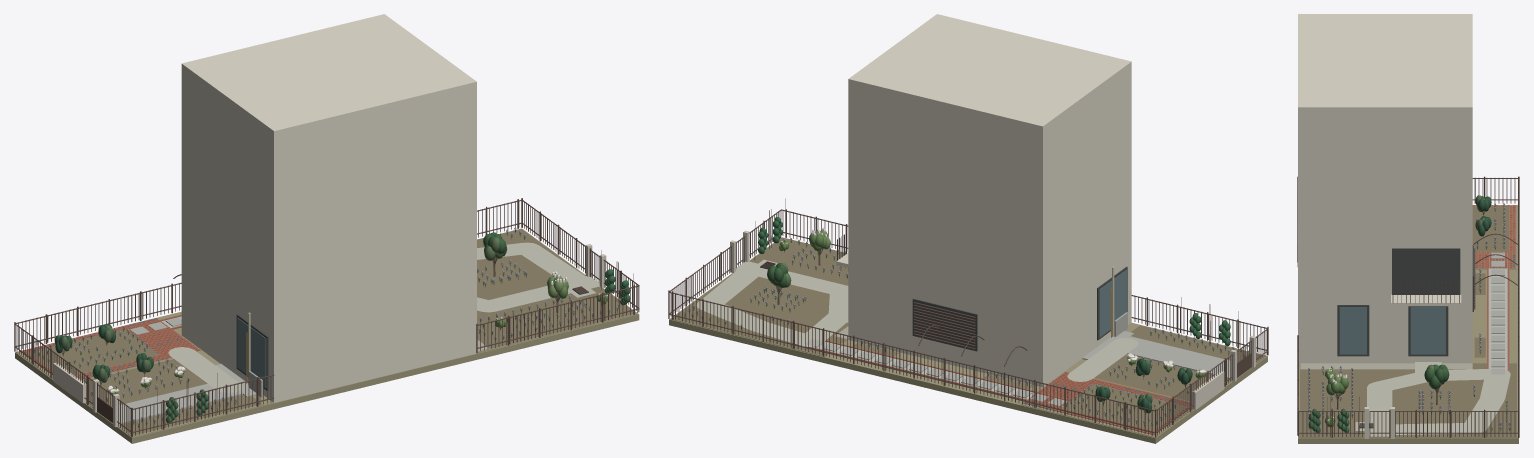
The model's file is design-C-year1.glb.
3 views of the same model, side by side, from view 1: azimuth 30°, elevation 25°; view 2: azimuth 150°, elevation 25°; view 3: azimuth 270°, elevation 25° (orthographic). The views are drawn at different scales.
Visible parts, largest first — view 1: Unsurveyed_Building_Mass, Boundary_Fences_Approximate_metal, R0_Flat_Datum, Proposed_Planting_Beds_And_Mulch, S-west-border, N-low-border, S-loop_New_Warm_Grey_Paving, Footprint_Proxy_Unsurveyed, N-woodland, Red_Brick_Joints_Indicative_brick, Grey_Access_Route_Approximate, N-connection_New_Warm_Grey_Paving (+5 smaller); view 2: Unsurveyed_Building_Mass, Boundary_Fences_Approximate_metal, R0_Flat_Datum, S-loop_New_Warm_Grey_Paving, Proposed_Planting_Beds_And_Mulch, N-low-border, Footprint_Proxy_Unsurveyed, Red_Brick_Joints_Indicative_brick, N-woodland, S-west-border, Wall_Services_Visible_Proxies_dark, Wall_Services_Visible_Proxies_metal (+11 smaller); view 3: Unsurveyed_Building_Mass, S-loop_New_Warm_Grey_Paving, Proposed_Planting_Beds_And_Mulch, Visible_bare_Openings_dark, Boundary_Fences_Approximate_metal, Visible_bare_Openings_glass, R0_Flat_Datum, S-west-border, Zone_3_Steps_And_Gravel_slab, Footprint_Proxy_Unsurveyed, N-low-border, S-east-border (+17 smaller).
Boxes of the visible parts, <box> form: Unsurveyed_Building_Mass: <box>181,14,476,394</box>; Boundary_Fences_Approximate_metal: <box>14,198,639,437</box>; R0_Flat_Datum: <box>15,231,639,443</box>; Proposed_Planting_Beds_And_Mulch: <box>41,229,636,435</box>; S-west-border: <box>477,292,632,346</box>; N-low-border: <box>28,329,159,375</box>; S-loop_New_Warm_Grey_Paving: <box>477,242,594,312</box>; Footprint_Proxy_Unsurveyed: <box>181,327,476,402</box>; N-woodland: <box>85,360,196,403</box>; Red_Brick_Joints_Indicative_brick: <box>20,318,200,379</box>; Grey_Access_Route_Approximate: <box>112,383,242,423</box>; N-connection_New_Warm_Grey_Paving: <box>168,347,242,392</box>; Unsurveyed_Building_Mass: <box>848,14,1131,378</box>; Boundary_Fences_Approximate_metal: <box>668,209,1268,437</box>; R0_Flat_Datum: <box>669,243,1267,443</box>; S-loop_New_Warm_Grey_Paving: <box>696,263,848,346</box>; Proposed_Planting_Beds_And_Mulch: <box>673,237,1263,430</box>; N-low-border: <box>1061,383,1187,430</box>; Footprint_Proxy_Unsurveyed: <box>848,314,1131,387</box>; Red_Brick_Joints_Indicative_brick: <box>1023,371,1191,435</box>; N-woodland: <box>1096,359,1211,398</box>; S-west-border: <box>757,239,848,280</box>; Wall_Services_Visible_Proxies_dark: <box>912,298,977,351</box>; Wall_Services_Visible_Proxies_metal: <box>913,302,975,349</box>; Unsurveyed_Building_Mass: <box>1298,14,1472,355</box>; S-loop_New_Warm_Grey_Paving: <box>1367,369,1510,435</box>; Proposed_Planting_Beds_And_Mulch: <box>1300,251,1516,436</box>; Visible_bare_Openings_dark: <box>1337,248,1460,356</box>; Boundary_Fences_Approximate_metal: <box>1297,176,1519,437</box>; Visible_bare_Openings_glass: <box>1339,307,1445,354</box>; R0_Flat_Datum: <box>1298,270,1518,443</box>; S-west-border: <box>1302,370,1354,435</box>; Zone_3_Steps_And_Gravel_slab: <box>1491,252,1504,374</box>; Footprint_Proxy_Unsurveyed: <box>1299,355,1472,363</box>; N-low-border: <box>1472,206,1508,251</box>; S-east-border: <box>1397,389,1514,435</box>.
Size of what is drawn, in the model's own units: 25.22 by 13.1 by 10.06.
